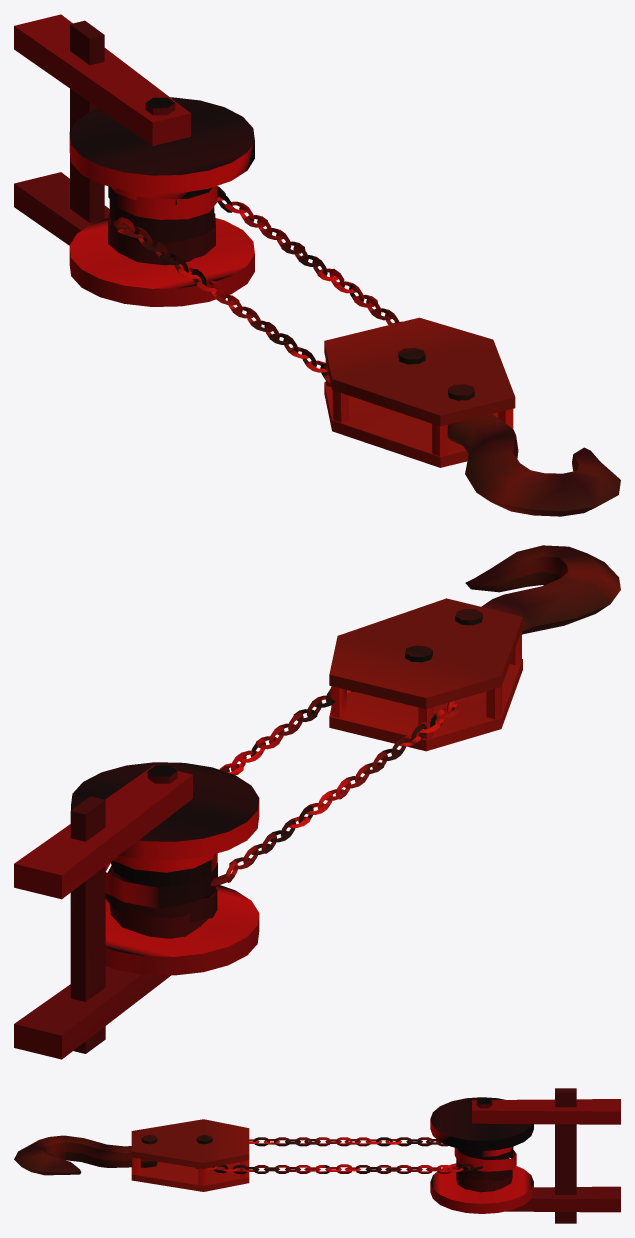
File: stm740_016_00.fbx
The picture shows the model from 3 angles, top to bottom: view 1: azimuth 30°, elevation 25°; view 2: azimuth 150°, elevation 25°; view 3: azimuth 270°, elevation 25°; orthographic projection. The views are drawn at different scales.
Visible parts, largest first — view 1: stm740_016_00 000 LOD 1; view 2: stm740_016_00 000 LOD 1; view 3: stm740_016_00 000 LOD 1.
Part boxes in pixels (left/top/right/bottom): stm740_016_00 000 LOD 1: left=14, top=14, right=620, bottom=516; stm740_016_00 000 LOD 1: left=14, top=545, right=620, bottom=1059; stm740_016_00 000 LOD 1: left=14, top=1088, right=620, bottom=1223.
Size of the model in its own units: 16375 by 22831 by 95856.
